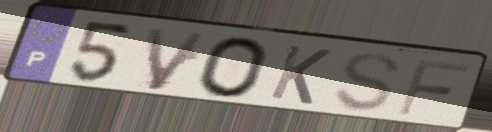5: (64, 17, 137, 86)
F: (393, 57, 473, 118)
K: (266, 42, 335, 108)
O: (194, 34, 273, 100)
S: (330, 50, 404, 114)
V: (143, 25, 212, 93)
